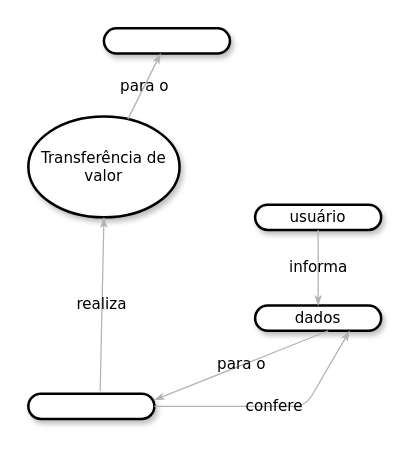
This 411x450 diagram has some shape labels left out. The centre of each missing label's shape, as x and y in pixels:
"destinatário" belongs at (x=167, y=42).
"sistema" belongs at (x=92, y=407).
